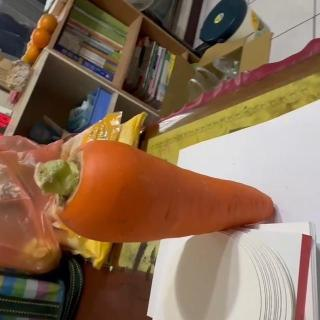carrot: (32, 138, 276, 244)
